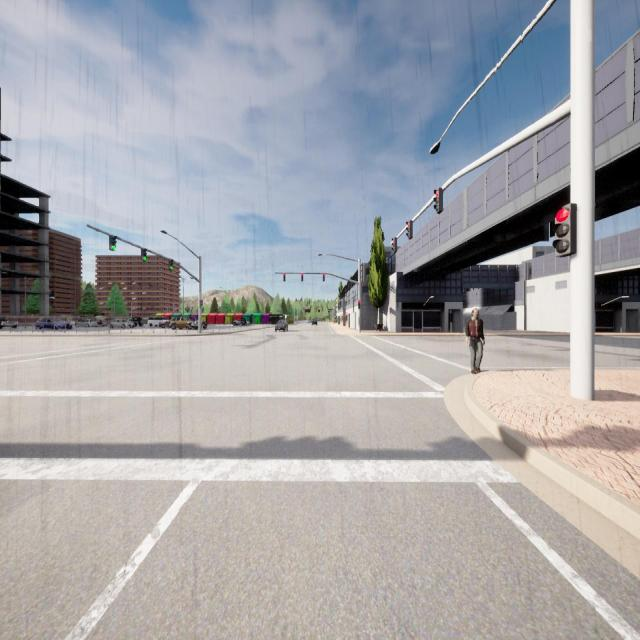Pedestrian: (465, 307, 485, 373)
Vehicle: (34, 316, 72, 332), (170, 316, 193, 330), (147, 316, 170, 329), (75, 317, 98, 329), (110, 318, 134, 329), (0, 316, 19, 329), (187, 320, 207, 330), (275, 319, 288, 332), (98, 314, 110, 328), (132, 317, 143, 328), (233, 318, 246, 326), (159, 320, 170, 329), (311, 320, 317, 325), (246, 320, 250, 326)
traffic_light: (554, 202, 578, 258), (434, 188, 443, 214), (406, 220, 412, 240), (109, 235, 116, 251), (392, 237, 398, 254), (141, 248, 147, 261), (168, 259, 174, 270), (200, 300, 203, 309), (283, 273, 286, 281), (358, 300, 360, 308), (301, 273, 303, 281), (323, 273, 325, 281)
